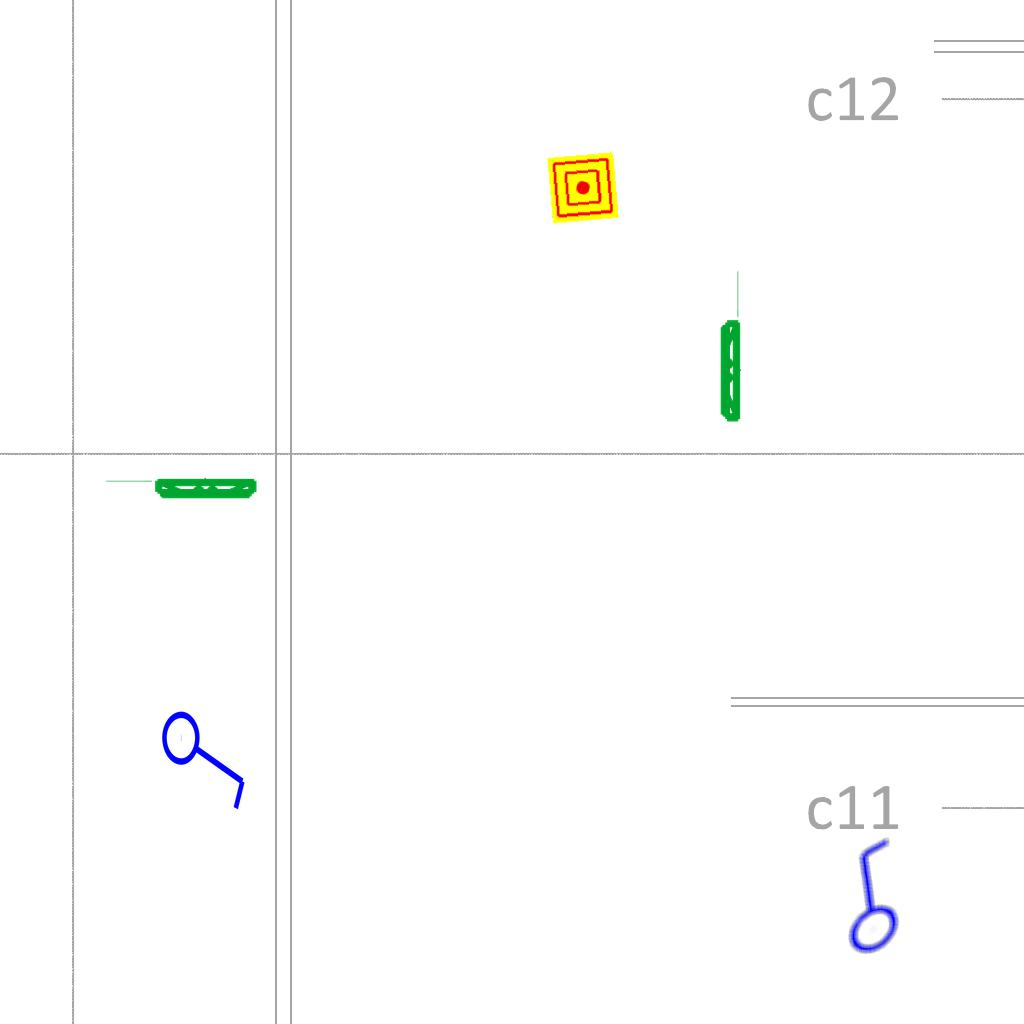Ausschalter: (795, 824, 943, 972), (159, 700, 255, 812)
NAM-Nichtautomatischer_Melder: (547, 152, 619, 224)
Sicherheitsleuchte_Wandeinbau: (101, 477, 260, 502), (717, 266, 742, 425)
